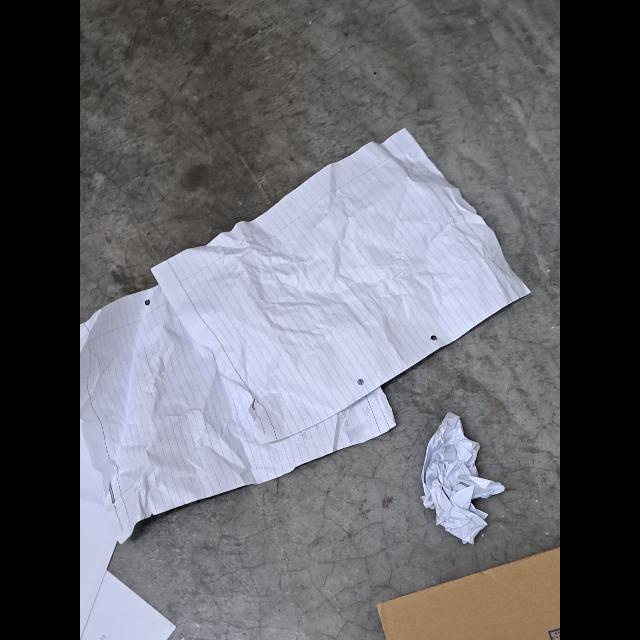papel: (153, 128, 532, 446), (80, 287, 398, 543), (419, 414, 506, 548)
papelão: (376, 548, 560, 640)
